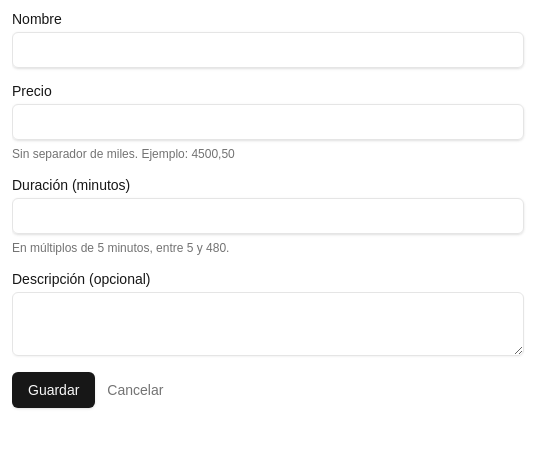
it: ServiceForm — rejected submit preserves all values › should_keep_the_rejected_price_exactly_as_typed
Type "Corte" into the field labelled "Nombre" at (268, 50), box x1=12 y1=32 x2=524 y2=68
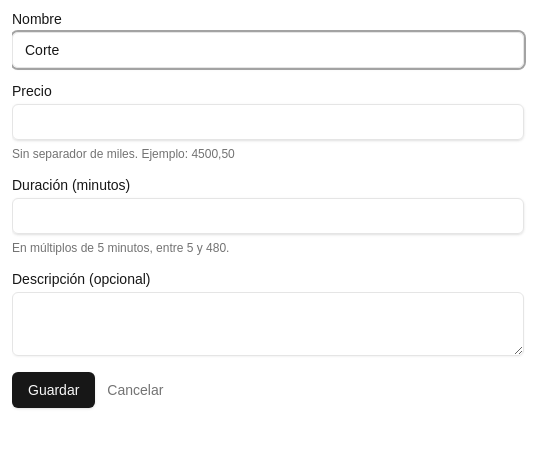
Type "4.500" into the field labelled "Precio" at (268, 122), box x1=12 y1=104 x2=524 y2=140
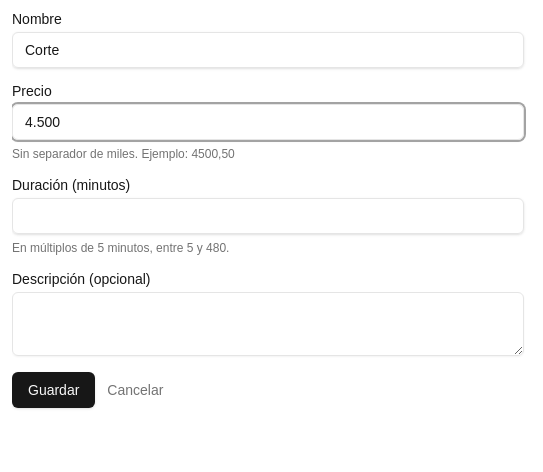
Type "30" into the field labelled "Duración (minutos)" at (268, 216), box x1=12 y1=198 x2=524 y2=234
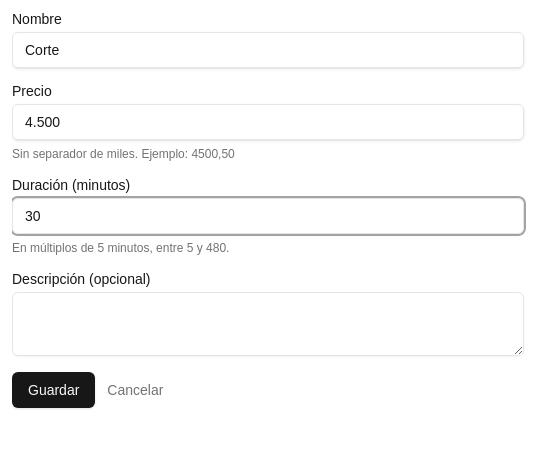
Click the button "Guardar" at (54, 390), box x1=12 y1=372 x2=95 y2=408
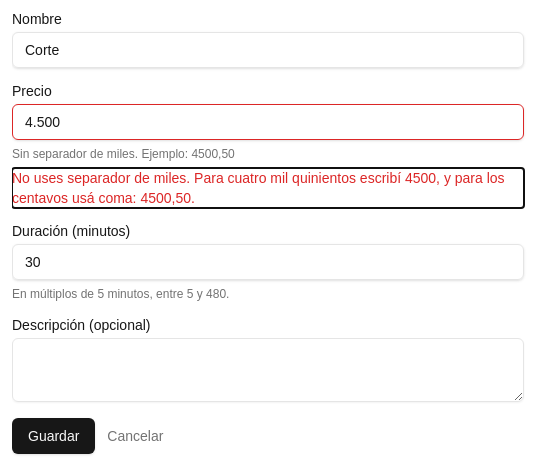
Result: the message is shown at x1=12 y1=168 x2=524 y2=208
